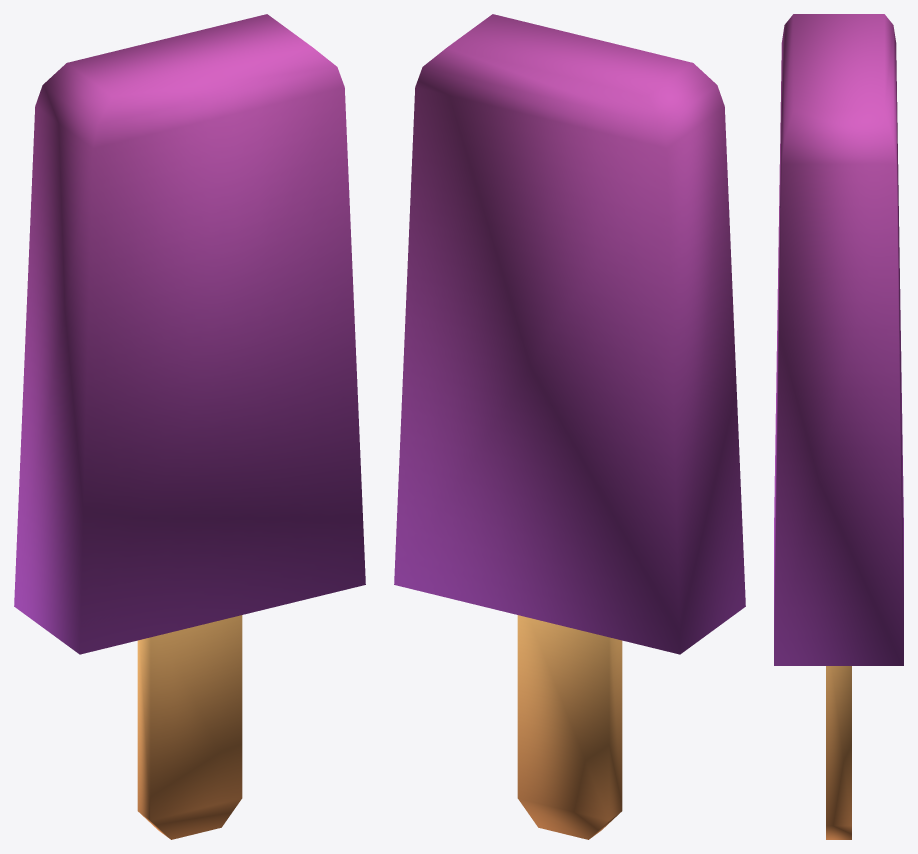
Rendered from IceCream04Var3.fbx.
3 renders of one model, left to right at view 1: azimuth 30°, elevation 25°; view 2: azimuth 150°, elevation 25°; view 3: azimuth 270°, elevation 25°, orthographic.
Parts seen in each view (by area): view 1: IceCreamVar4c; view 2: IceCreamVar4c; view 3: IceCreamVar4c.
Boxes of the visible parts, box(x1,y1,x2,y2) form: IceCreamVar4c: box(14, 14, 365, 839); IceCreamVar4c: box(394, 14, 745, 839); IceCreamVar4c: box(774, 14, 903, 839).
Size of the model in its own units: 0.0747 by 0.0297 by 0.193.
